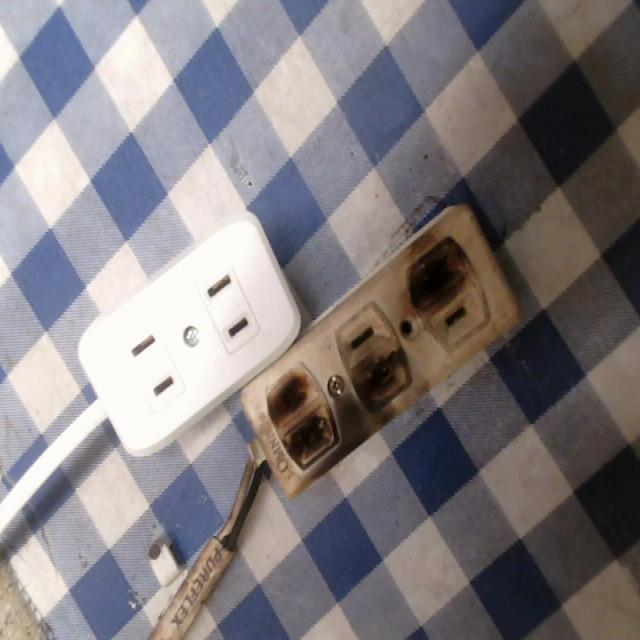-: (255, 362, 336, 474), (404, 229, 471, 315), (354, 344, 415, 417)
